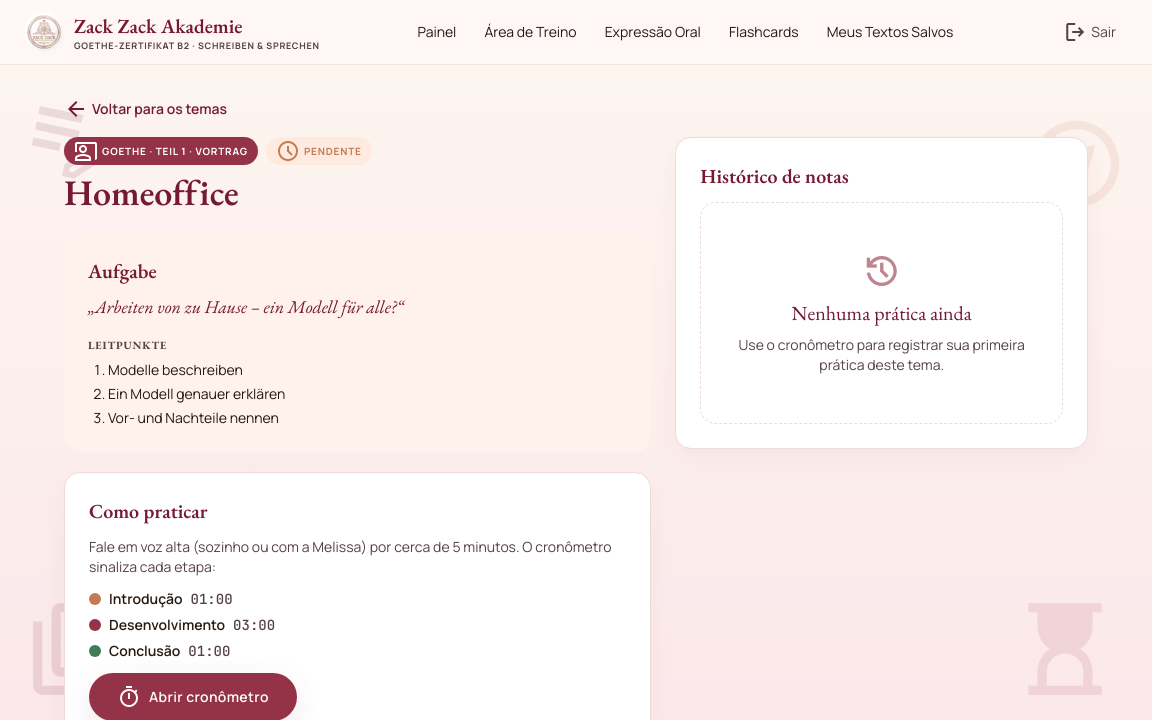
Test: Sprechen › records nothing when the timer is closed without finishing
Step 1. Click the button "Abrir cronômetro" → (193, 696), box [89,672,297,719]
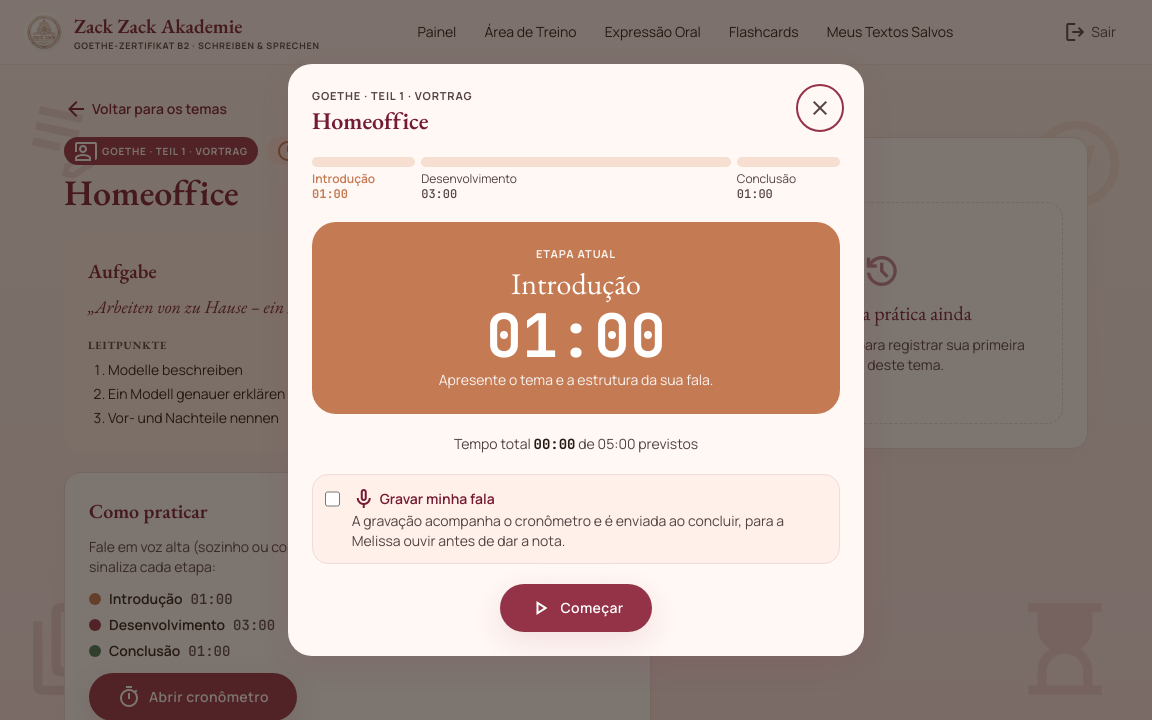
Step 2. Click the button named "fechar cronômetro" → (820, 108), box [800,88,840,128]
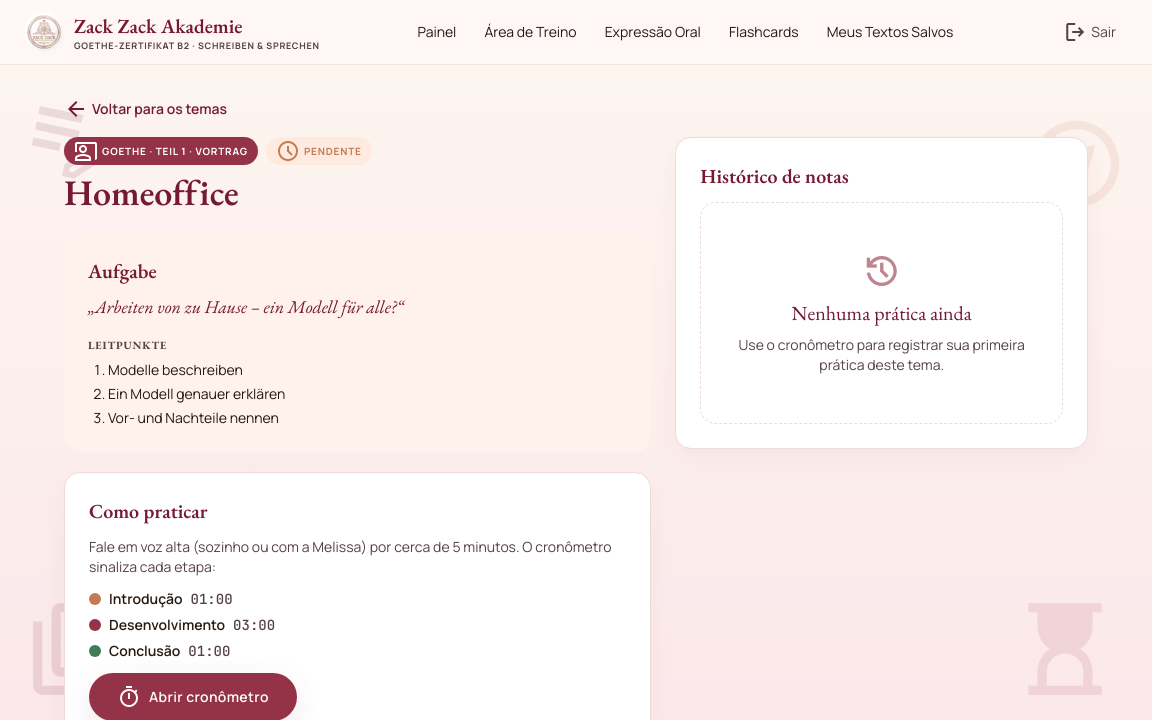
expect the dialog is gone: met
